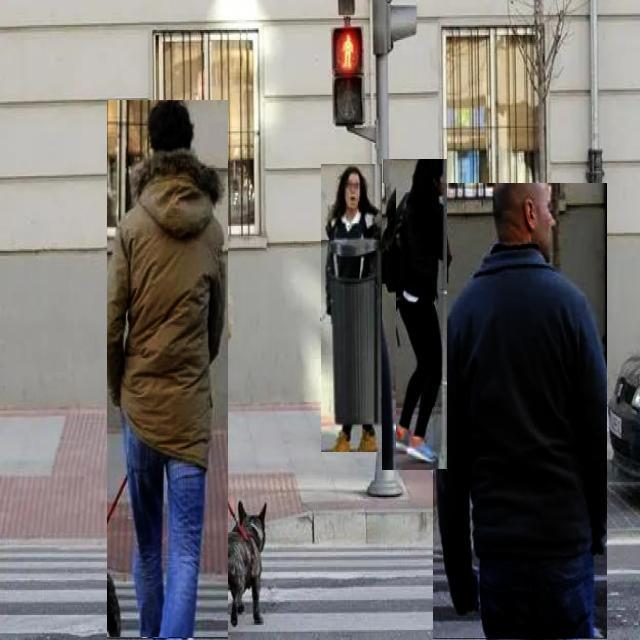without scooter: (433, 184, 607, 640), (107, 101, 228, 640), (383, 160, 448, 470), (321, 164, 386, 452)
